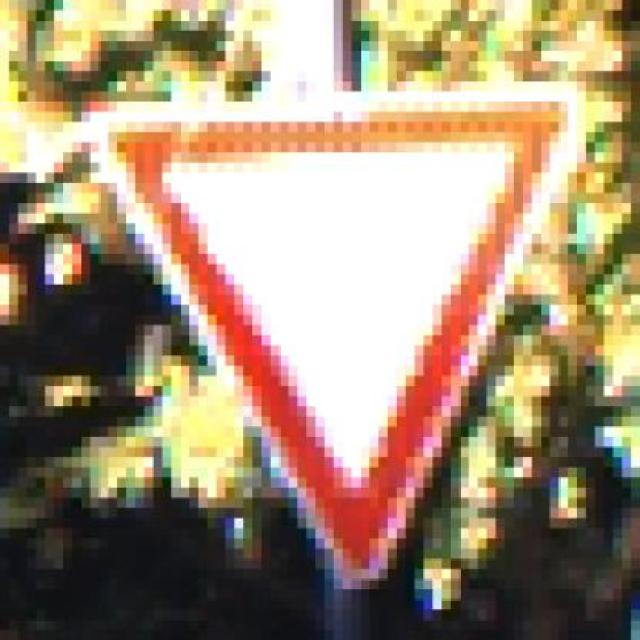Give Way: (49, 77, 608, 595)
